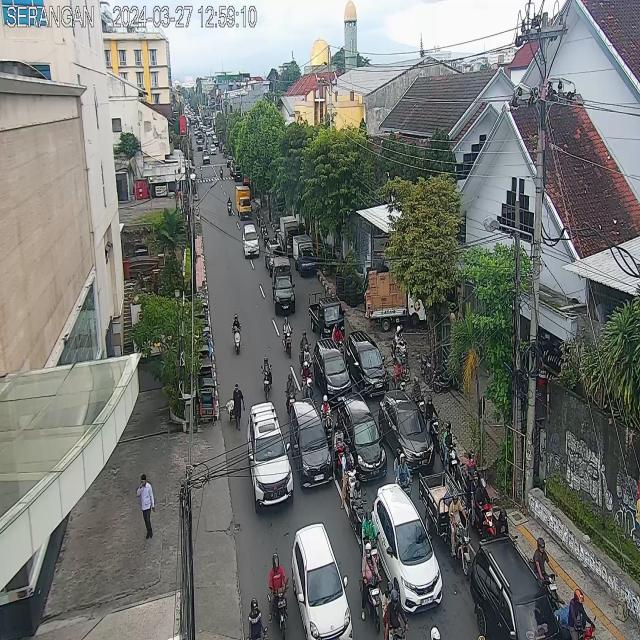car: (472, 533, 562, 640), (372, 481, 443, 613), (291, 521, 353, 640), (249, 402, 294, 512), (378, 390, 434, 470), (338, 392, 388, 479), (290, 396, 334, 491), (346, 331, 390, 396), (314, 339, 352, 406), (273, 263, 295, 314), (266, 241, 285, 275), (242, 225, 259, 259)
motorcycle: (427, 478, 474, 578), (528, 534, 563, 613), (359, 543, 385, 637), (268, 550, 292, 640), (558, 587, 598, 640), (382, 580, 409, 640), (472, 471, 494, 540), (359, 510, 382, 574), (392, 446, 413, 504), (245, 591, 268, 640), (441, 420, 459, 482), (349, 479, 367, 540), (340, 446, 357, 510), (332, 422, 347, 484), (495, 506, 517, 546), (426, 394, 440, 455), (320, 394, 334, 451), (462, 450, 476, 502), (412, 374, 425, 424), (300, 358, 314, 403), (261, 355, 274, 402), (285, 369, 297, 418), (299, 341, 315, 376), (330, 322, 346, 356), (231, 312, 243, 356), (298, 325, 312, 362), (282, 316, 293, 360), (394, 357, 406, 397), (262, 223, 270, 247), (226, 196, 233, 217), (260, 216, 267, 236), (255, 205, 261, 228)
truck: (309, 292, 345, 342), (294, 235, 316, 278), (280, 216, 300, 257), (235, 186, 252, 218)
